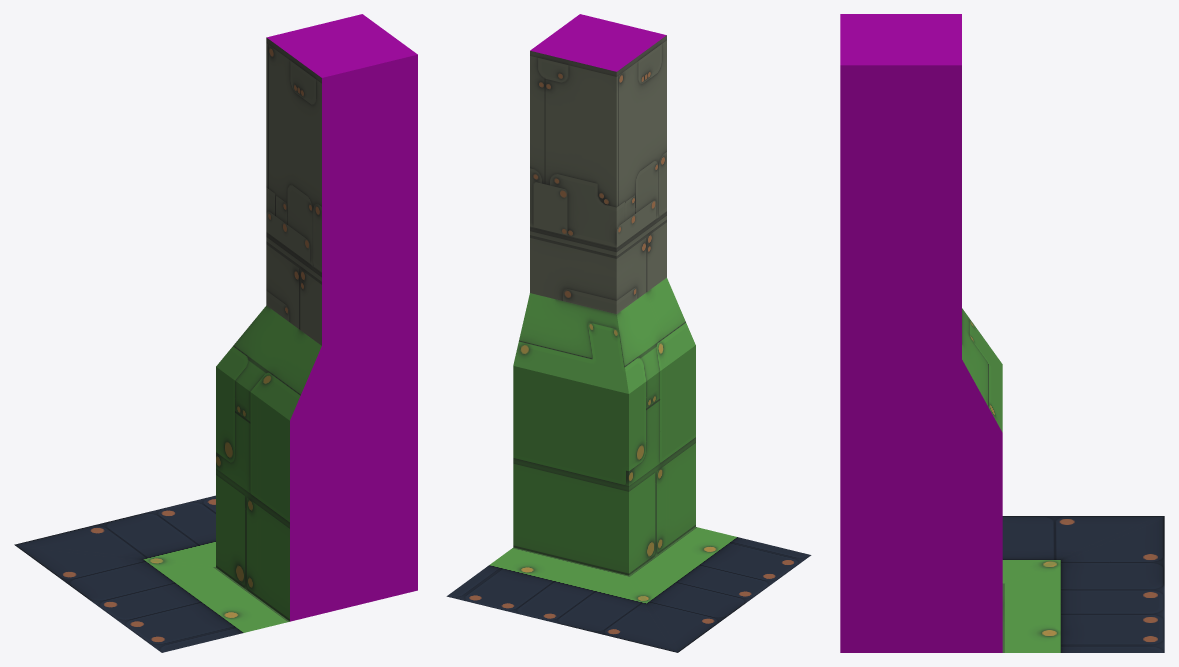
The model's file is Wall_Corner90_Top.fbx.
3 views of the same model, side by side, from view 1: azimuth 30°, elevation 25°; view 2: azimuth 150°, elevation 25°; view 3: azimuth 270°, elevation 25° (orthographic). The views are drawn at different scales.
Parts seen in each view (by area): view 1: Wall_Corner90, Wall_Corner90_Top, Floor_Edge_Corner90; view 2: Wall_Corner90, Wall_Corner90_Top, Floor_Edge_Corner90; view 3: Wall_Corner90, Wall_Corner90_Top, Floor_Edge_Corner90.
Part boxes in pixels (<box>): Wall_Corner90: <box>216,305,417,621</box>; Wall_Corner90_Top: <box>266,14,417,345</box>; Floor_Edge_Corner90: <box>14,495,289,652</box>; Wall_Corner90: <box>513,277,695,575</box>; Wall_Corner90_Top: <box>530,14,666,313</box>; Floor_Edge_Corner90: <box>446,527,811,652</box>; Wall_Corner90: <box>840,308,1002,652</box>; Wall_Corner90_Top: <box>840,14,961,359</box>; Floor_Edge_Corner90: <box>1002,516,1164,652</box>.
Bounding box in the file's own units: 100 × 200 × 100.
